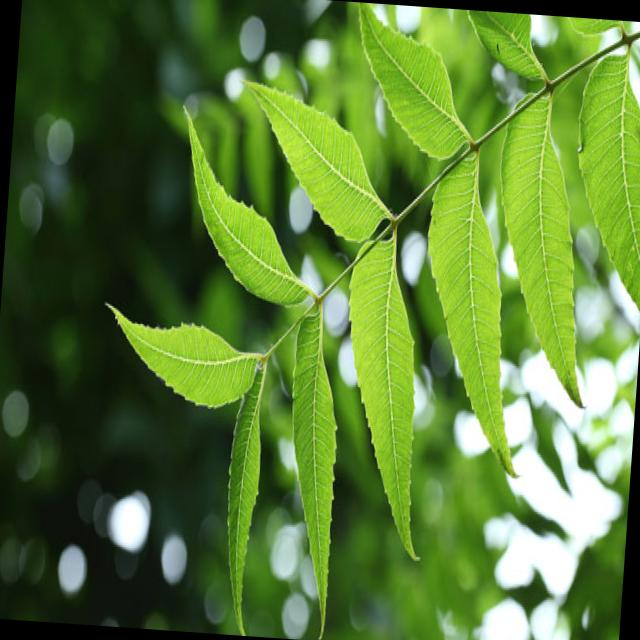Medicinal-Neem: (82, 0, 640, 640)
